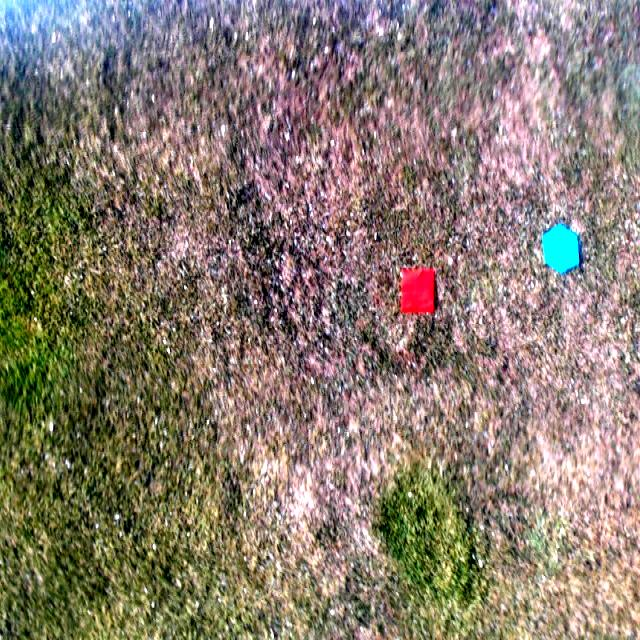blue_hexagon: (543, 223, 581, 276)
red_square: (400, 268, 436, 315)
